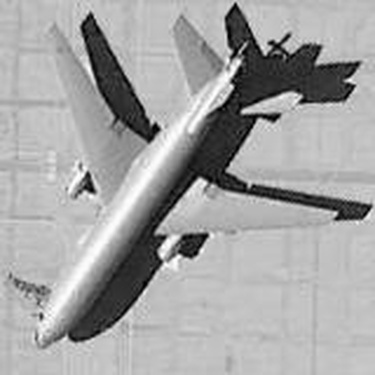airplane: (9, 8, 353, 359)
